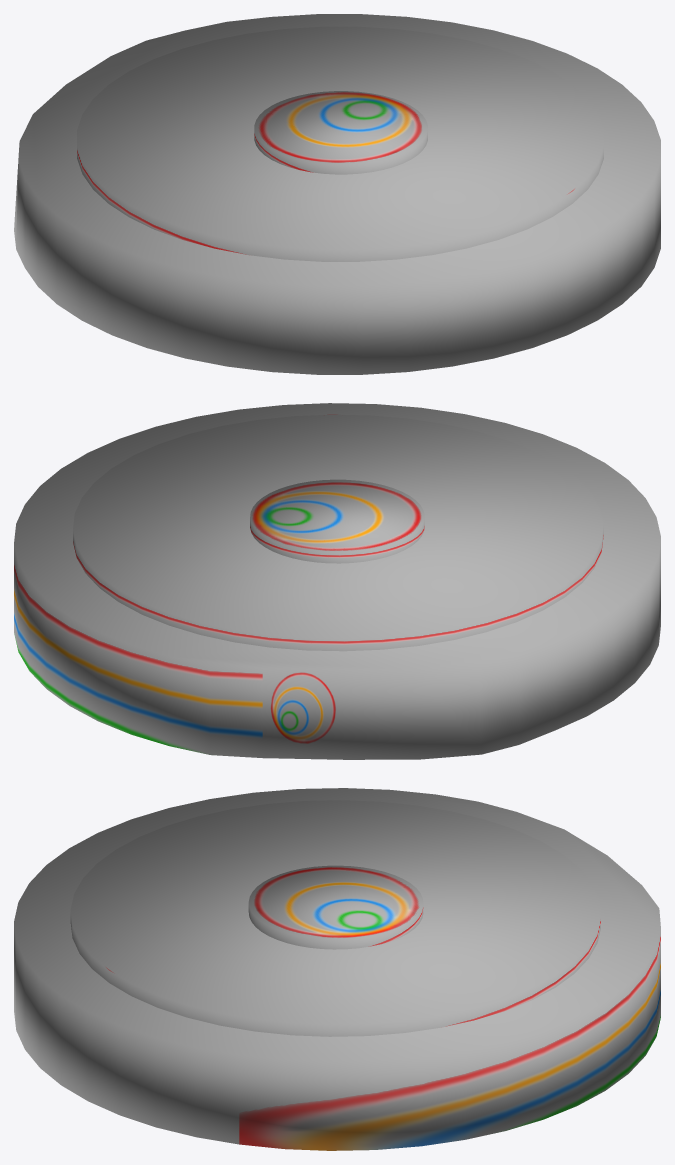
The model's file is roombajderbotgrey.gltf.
The picture shows the model from 3 angles, top to bottom: view 1: azimuth 30°, elevation 25°; view 2: azimuth 150°, elevation 25°; view 3: azimuth 270°, elevation 25°; orthographic projection.
Parts seen in each view (by area): view 1: Cylinder; view 2: Cylinder; view 3: Cylinder.
Part boxes in pixels (<box>): Cylinder: <box>14,14,660,374</box>; Cylinder: <box>14,403,660,759</box>; Cylinder: <box>14,788,660,1150</box>.
Bounding box in the file's own units: 2 × 0.52 × 2.
3 materials, 1 textured.
